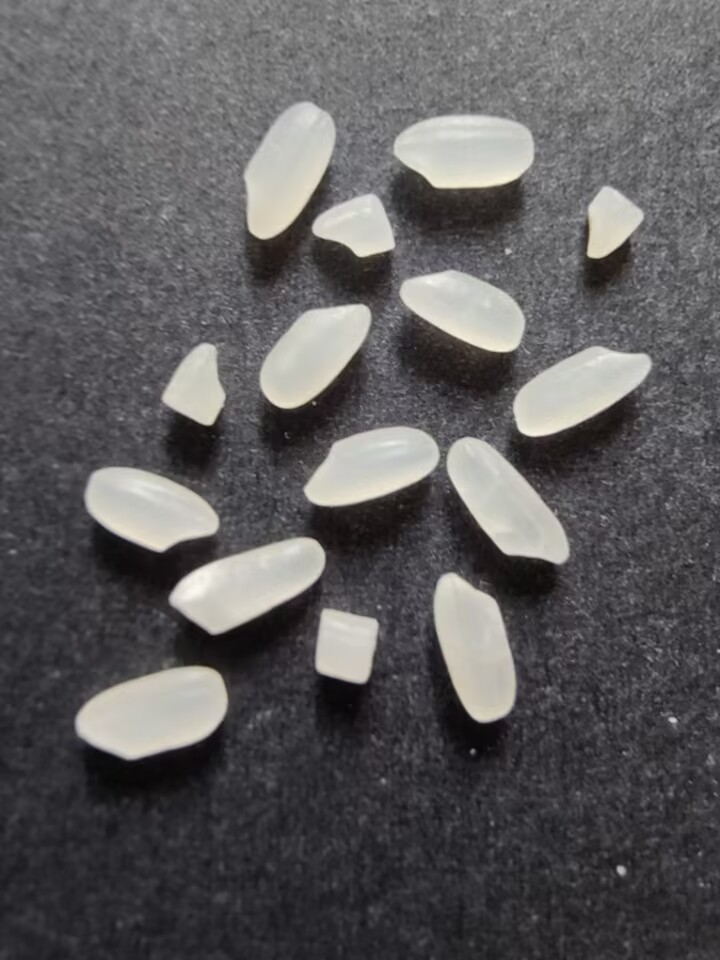broken: (158, 340, 231, 430), (307, 189, 399, 260), (579, 181, 649, 267), (310, 604, 379, 688)
rice: (444, 435, 572, 572), (167, 534, 329, 639), (71, 661, 233, 766), (237, 96, 341, 243), (428, 570, 521, 726), (507, 344, 660, 438), (83, 465, 225, 559), (257, 299, 376, 410), (387, 109, 536, 193), (391, 265, 528, 354), (299, 426, 445, 508)
